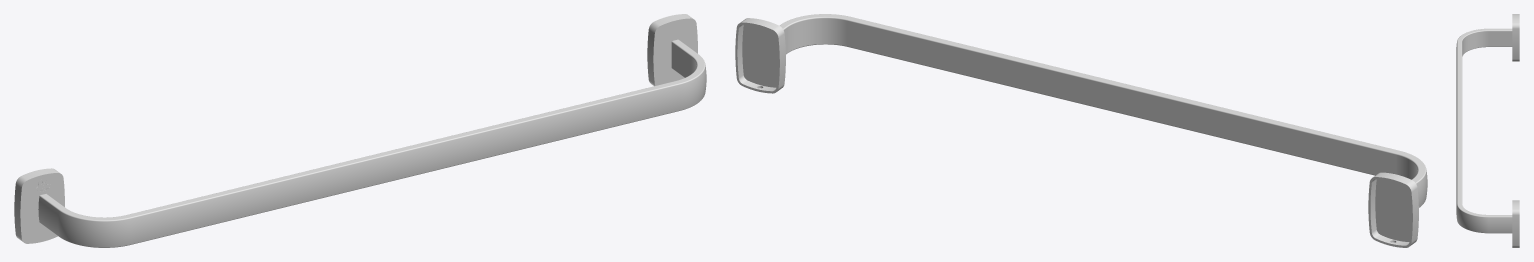
Rendered from 37TBR007-.glb.
3 renders of one model, left to right at view 1: azimuth 30°, elevation 25°; view 2: azimuth 150°, elevation 25°; view 3: azimuth 270°, elevation 25°, orthographic. The views are drawn at different scales.
Parts seen in each view (by area): view 1: node_id5; view 2: node_id5; view 3: node_id5.
Boxes of the visible parts, x1,y1,x2,y2 form: node_id5: [14, 14, 706, 247]; node_id5: [735, 14, 1427, 247]; node_id5: [1456, 14, 1519, 247].
Bounding box in the file's own units: 0.512 × 0.0483 × 0.0686.
Materials: 1 (1 with a texture image).
